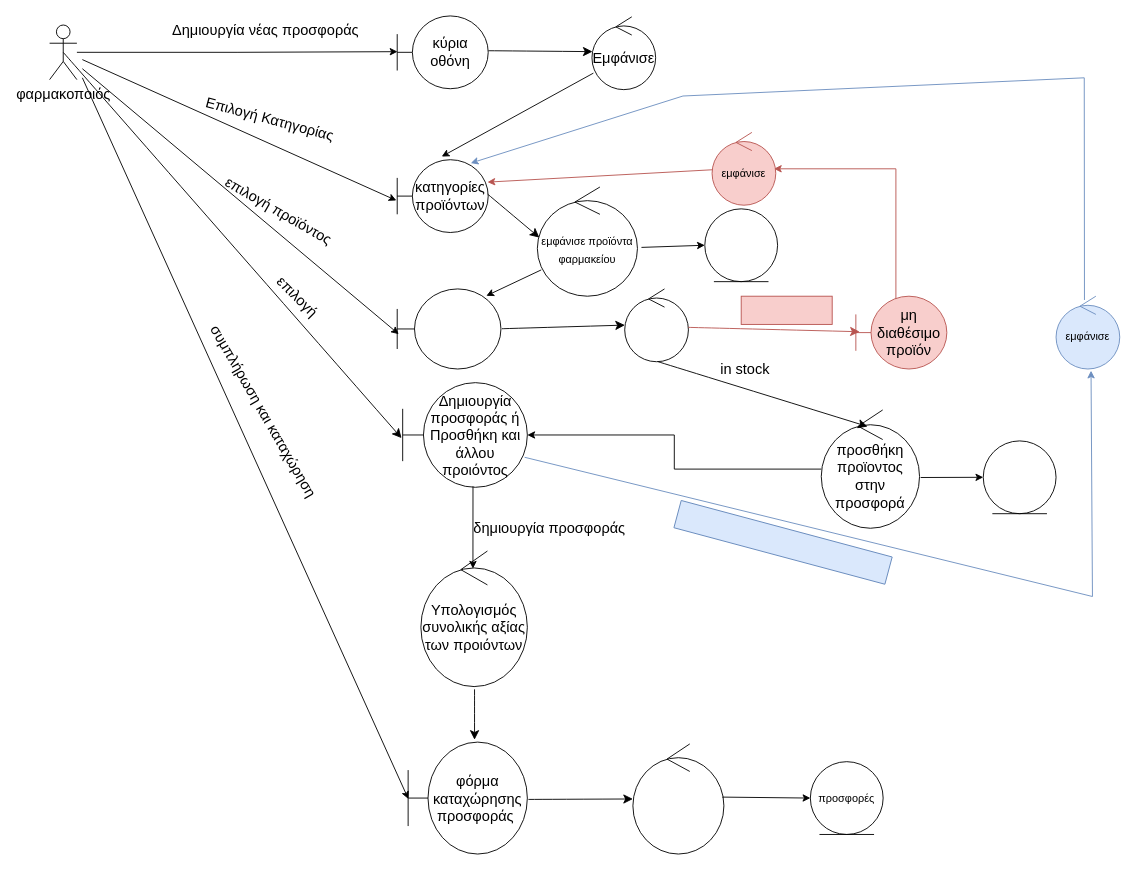
The diagram is 1136 pixels wide and 870 high, and some of its shapes have lost their labels. Each missing label, with the box of its shape:
out of stock: (740, 295, 832, 324)
έλεγχος stock: (624, 288, 688, 362)
καταχώρηση προσφοράς: (632, 743, 724, 854)
Προιόντα: (396, 288, 501, 369)
προσθήκη και άλλου προϊόντος: (673, 499, 892, 584)
Προσφορά: (982, 440, 1056, 514)
προϊόντα φαρμακείου: (704, 208, 778, 282)
